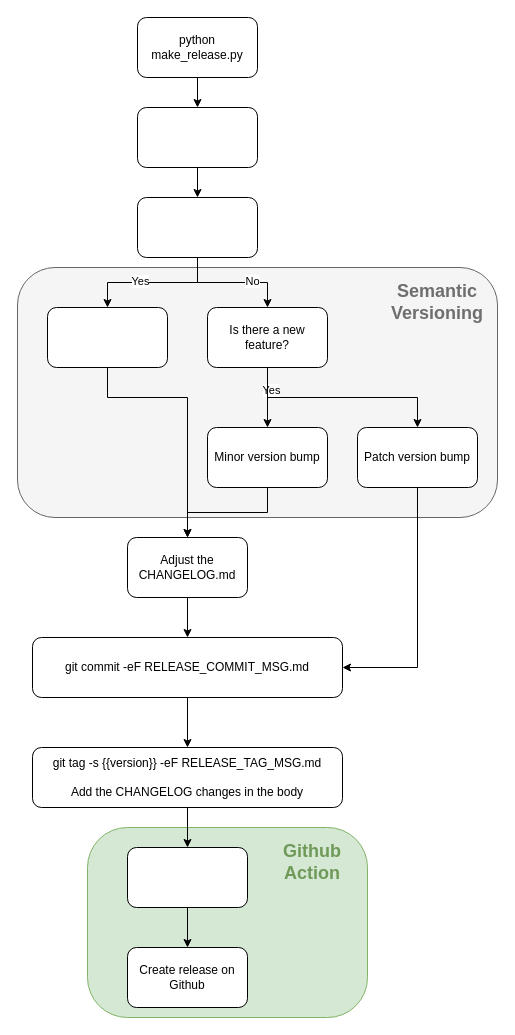
Some shapes in this 515 by 1035 pixel diagram are drawn without their labels. The shapes that lost their labels are listed below. From the top down, each one's centre as x and y in pixels, then its label:
the point at 197,137: Manually adjust CHANGELOG.md changes
the point at 197,227: Is there a breaking change
the point at 107,337: Major version bump in _version.py
the point at 187,877: Build and push packages to PyPI
